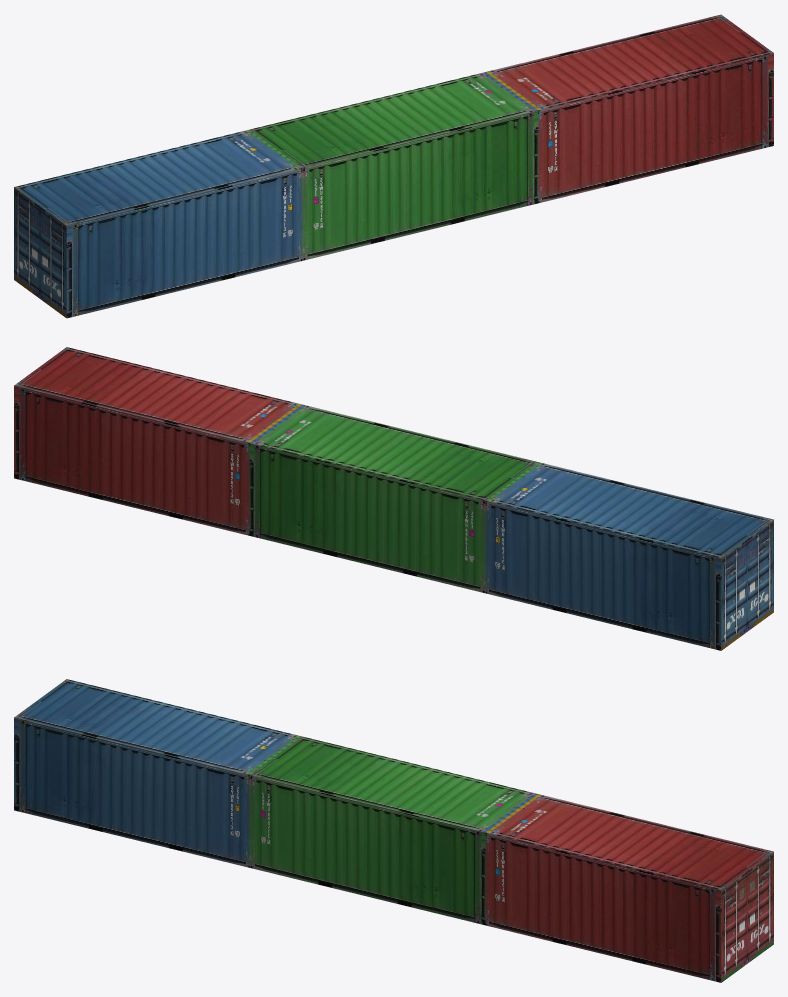
3 renders of one model, top to bottom at view 1: azimuth 30°, elevation 25°; view 2: azimuth 150°, elevation 25°; view 3: azimuth 330°, elevation 25°, orthographic.
Visible parts, largest first — view 1: polySurface37; view 2: polySurface37; view 3: polySurface37.
Boxes of the visible parts, bbox=[...] form: polySurface37: bbox=[14, 14, 773, 318]; polySurface37: bbox=[14, 347, 773, 650]; polySurface37: bbox=[14, 679, 773, 982].
Bounding box in the file's own units: 49.94 × 6.26 × 6.45.
1 material, 1 textured.
